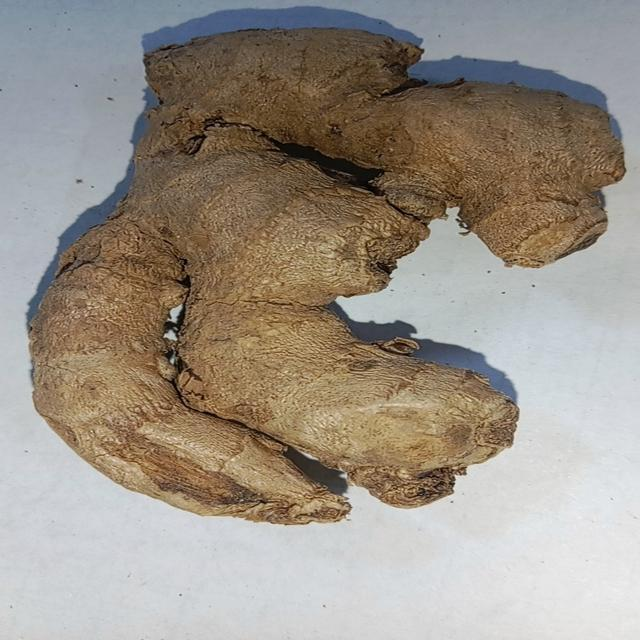ginger: (36, 31, 604, 524)
